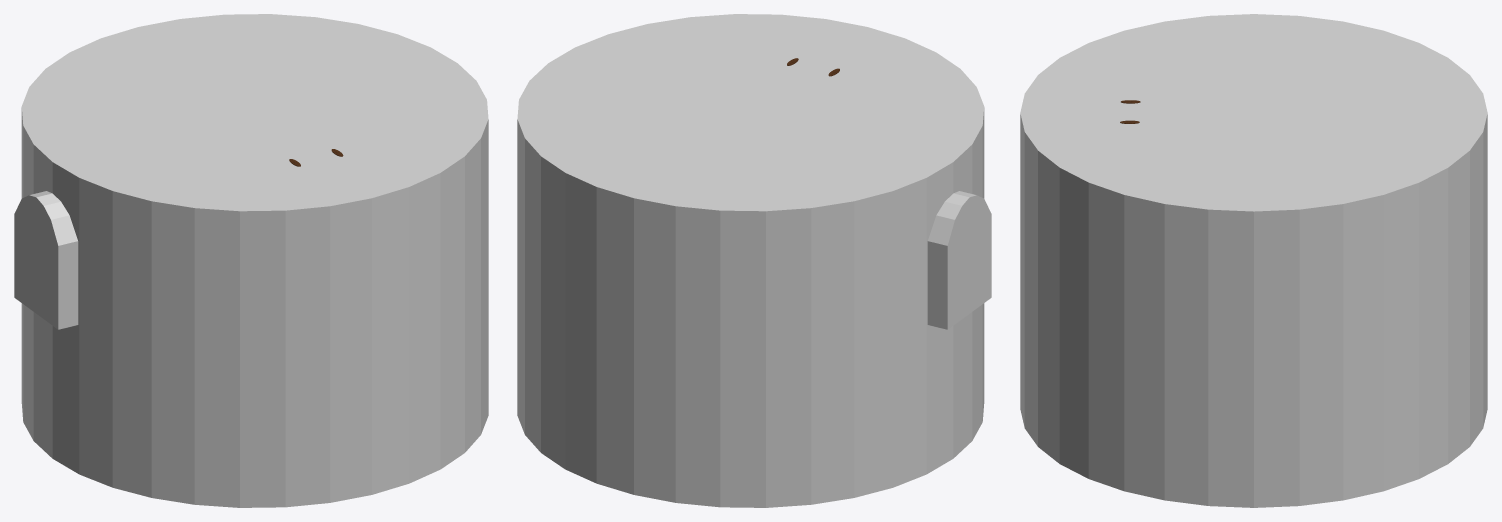
3 views of the same model, side by side, from view 1: azimuth 30°, elevation 25°; view 2: azimuth 150°, elevation 25°; view 3: azimuth 270°, elevation 25° (orthographic).
Parts seen in each view (by area): view 1: Cylinder, Cylinder.002, Cube; view 2: Cylinder, Cylinder.002, Cube; view 3: Cylinder, Cylinder.002.
Boxes of the visible parts, x1=… form: Cylinder: x1=21, y1=14, x2=488, y2=507; Cylinder.002: x1=21, y1=107, x2=488, y2=400; Cube: x1=14, y1=191, x2=78, y2=329; Cylinder: x1=517, y1=14, x2=984, y2=507; Cylinder.002: x1=517, y1=119, x2=982, y2=400; Cube: x1=927, y1=191, x2=991, y2=329; Cylinder: x1=1020, y1=14, x2=1487, y2=507; Cylinder.002: x1=1032, y1=117, x2=1487, y2=400.
Bounding box in the file's own units: 17.09 × 11.52 × 16.43.
Materials: 14 (5 with a texture image).
